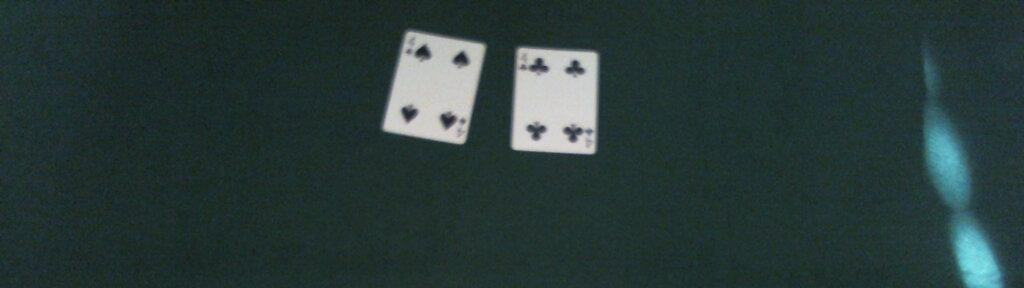four: (380, 29, 487, 145), (509, 45, 597, 155)
